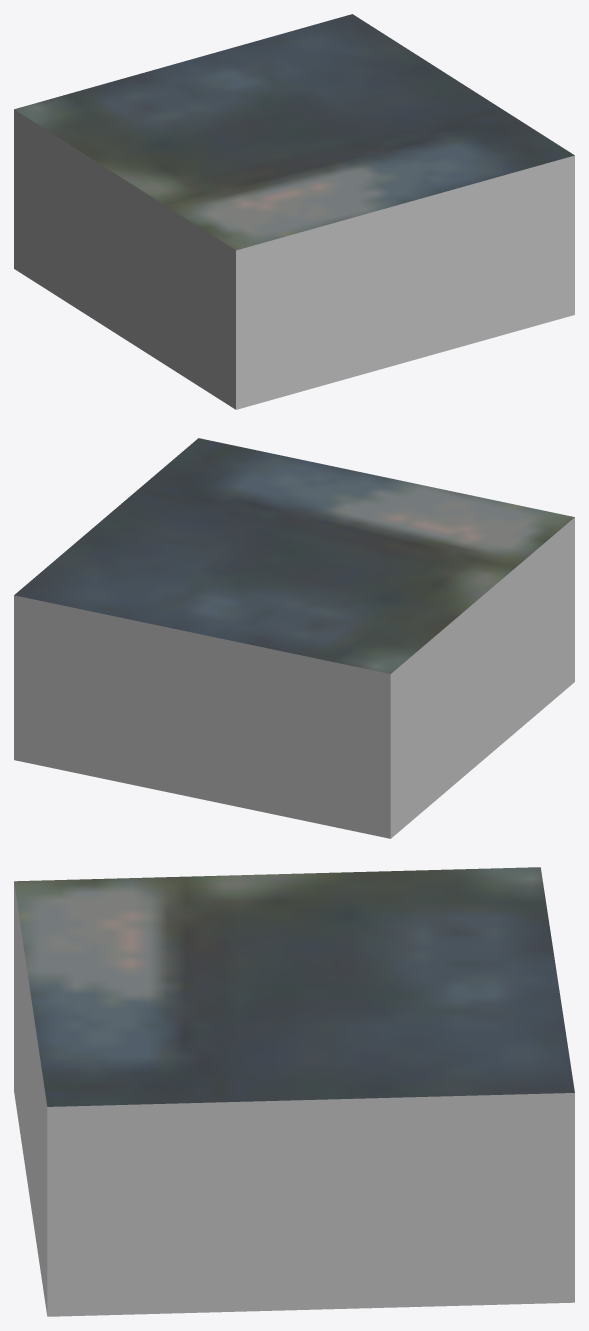
Rendered from DEBW_0010007Txev.gltf.
3 views of the same model, one above another, from view 1: azimuth 30°, elevation 25°; view 2: azimuth 150°, elevation 25°; view 3: azimuth 270°, elevation 25° (orthographic). The views are drawn at different scales.
Parts seen in each view (by area): view 1: Z_UP; view 2: Z_UP; view 3: Z_UP.
Part boxes in pixels (left/top/right/bottom): Z_UP: left=14, top=14, right=574, bottom=409; Z_UP: left=14, top=438, right=574, bottom=838; Z_UP: left=14, top=867, right=574, bottom=1316.
Bounding box in the file's own units: 6.13 × 2.5 × 6.06.
2 materials, 1 textured.
